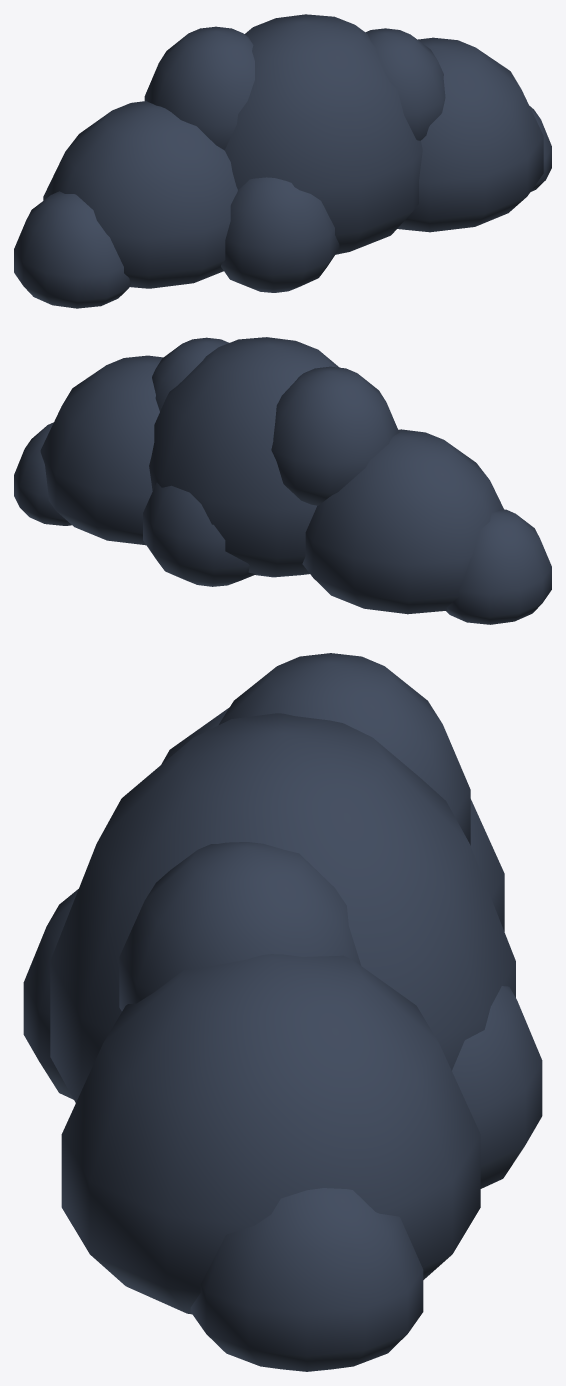
Rendered from cloud_a.glb.
The picture shows the model from 3 angles, top to bottom: view 1: azimuth 30°, elevation 25°; view 2: azimuth 150°, elevation 25°; view 3: azimuth 270°, elevation 25°; orthographic projection. The views are drawn at different scales.
Visible parts, largest first — view 1: cloud; view 2: cloud; view 3: cloud.
Part boxes in pixels (<box>): cloud: <box>14,14,551,308</box>; cloud: <box>14,337,551,624</box>; cloud: <box>23,653,542,1371</box>.
Size of the model in its own units: 9.95 by 4 by 4.35.
